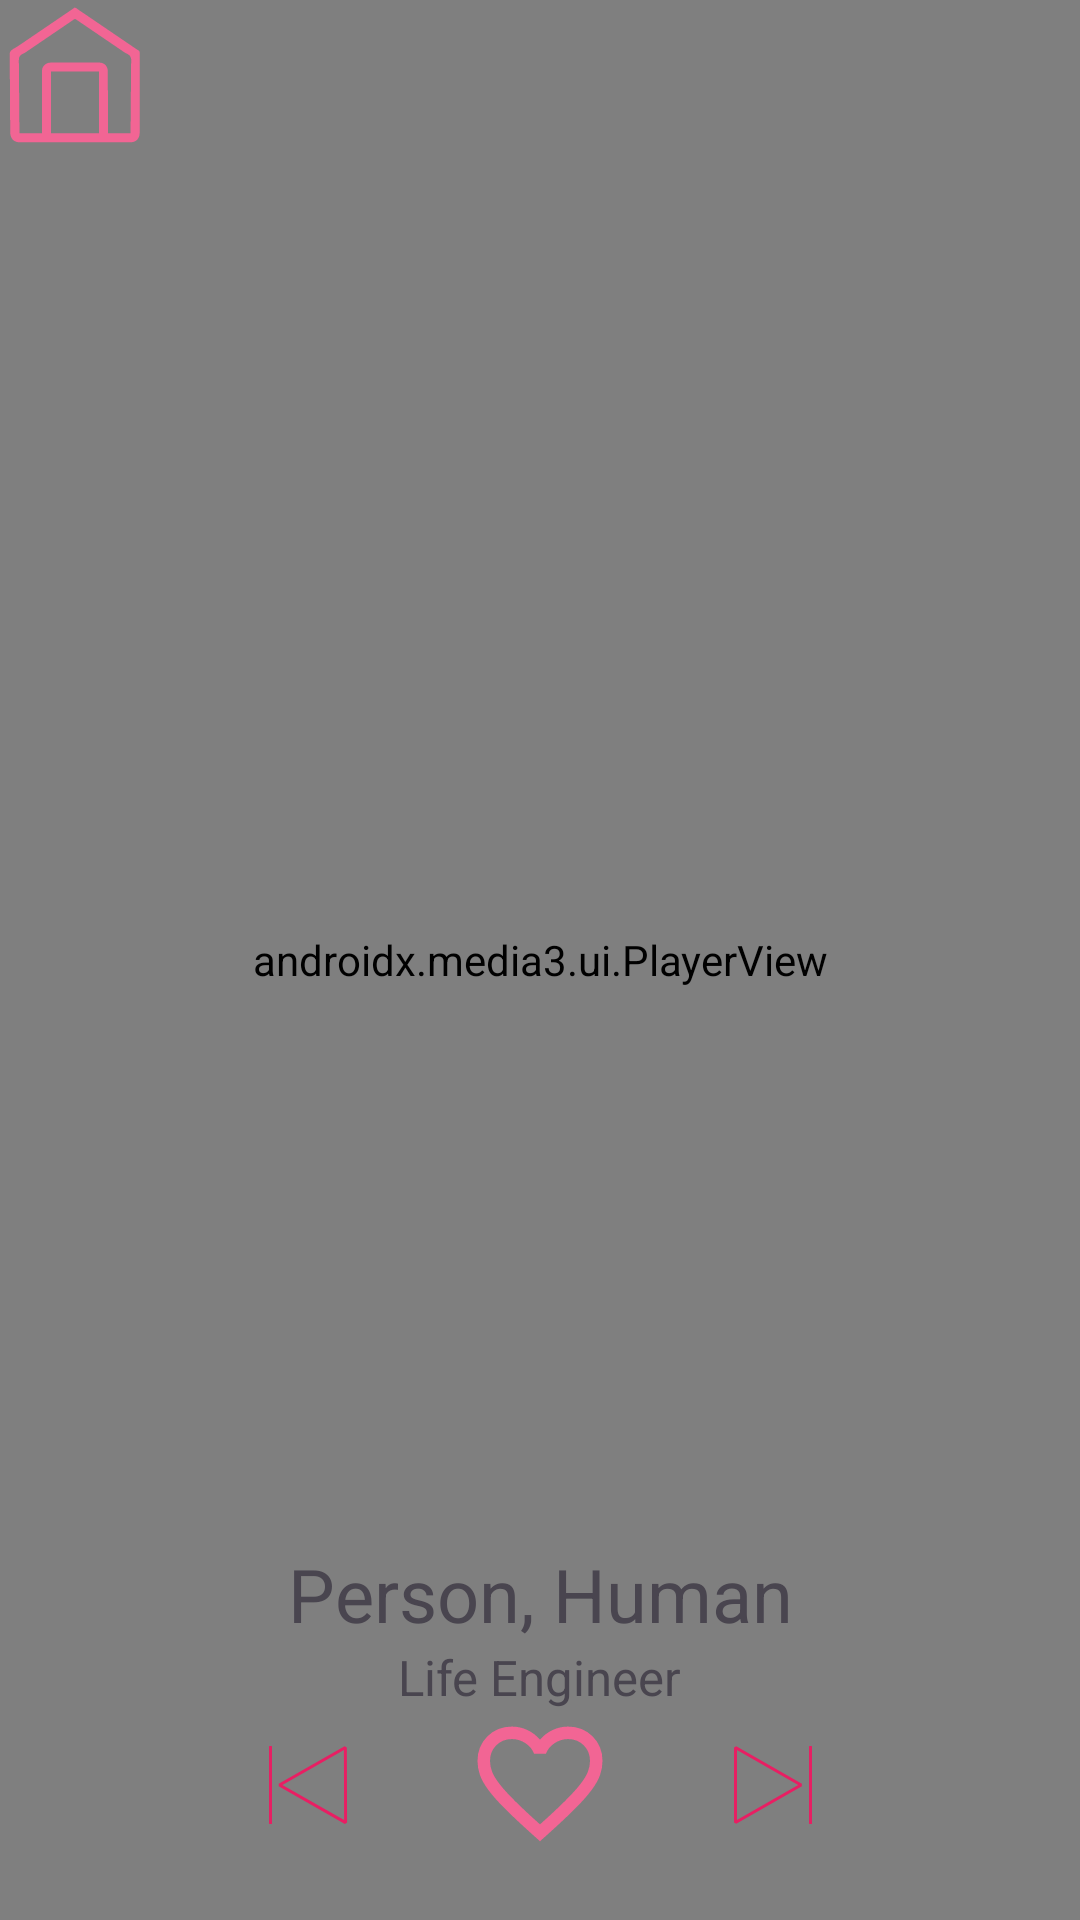

Screen size 1080*1920. Icon name, then its box in pixels as bbox=(x1, y1, x2, y2):
heart: bbox=(477, 1726, 603, 1841)
home: bbox=(9, 7, 140, 143)
next: bbox=(734, 1746, 812, 1824)
previous: bbox=(269, 1746, 347, 1824)
